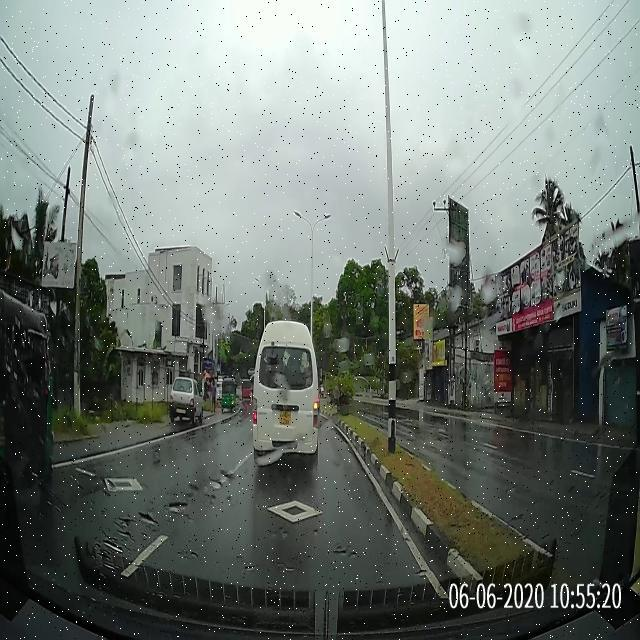diamond: (138, 489, 432, 571)
